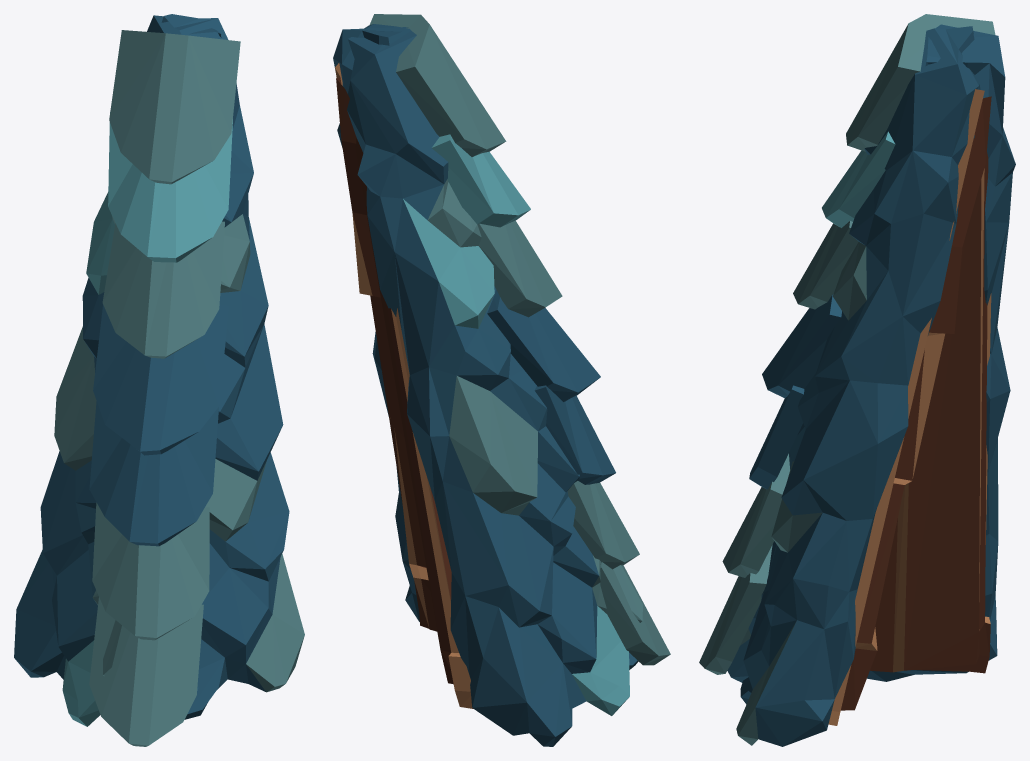
Rendered from MCastle_Roofs_01.FBX.
The picture shows the model from 3 angles, left to right: view 1: azimuth 30°, elevation 25°; view 2: azimuth 150°, elevation 25°; view 3: azimuth 270°, elevation 25°; orthographic projection. The views are drawn at different scales.
Visible parts, largest first — view 1: MCastle_Roofs_01_LOD0; view 2: MCastle_Roofs_01_LOD0; view 3: MCastle_Roofs_01_LOD0.
Boxes of the visible parts, <box> form: MCastle_Roofs_01_LOD0: <box>14,14,304,746</box>; MCastle_Roofs_01_LOD0: <box>333,14,670,746</box>; MCastle_Roofs_01_LOD0: <box>699,14,1015,746</box>.
Size of what is drawn, in the model's own units: 1.73 by 4.89 by 1.92.
